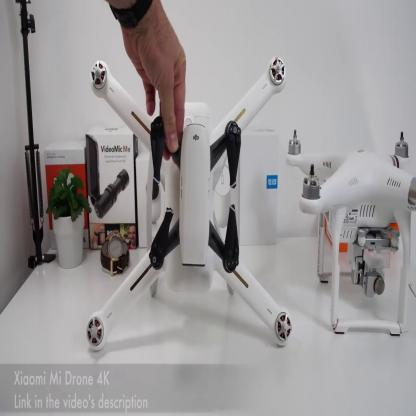drone: (81, 43, 301, 352), (282, 113, 416, 230)
